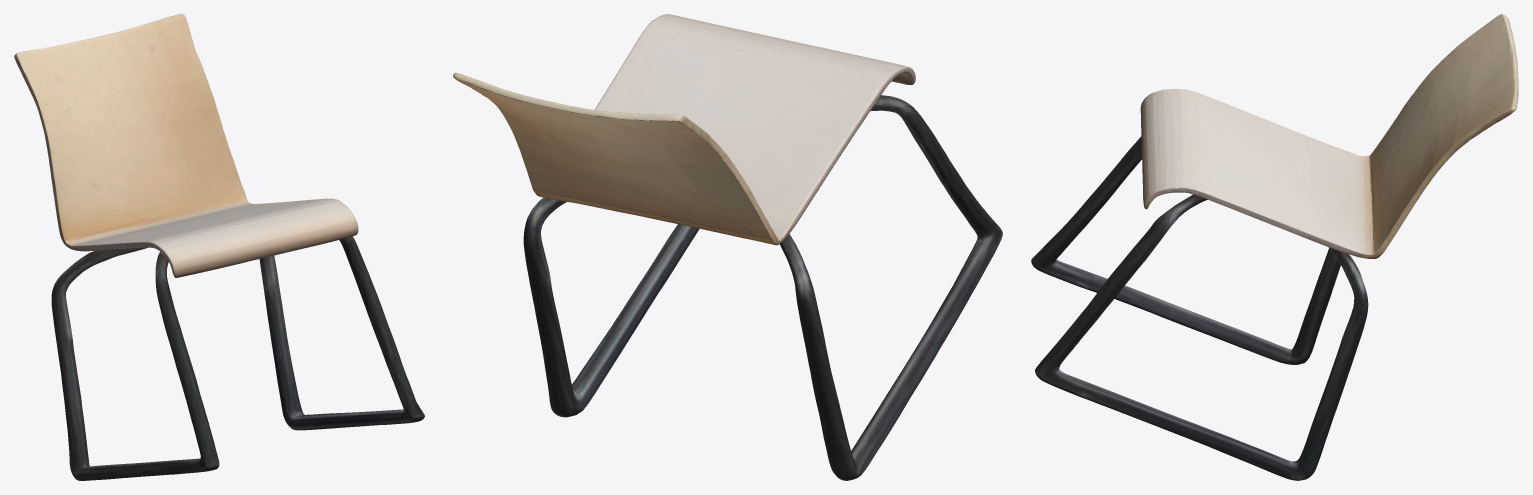
File: wooden_chair_in_the_front_left_000.glb
3 views of the same model, side by side, from view 1: azimuth 30°, elevation 25°; view 2: azimuth 150°, elevation 25°; view 3: azimuth 270°, elevation 25° (orthographic). The views are drawn at different scales.
Parts seen in each view (by area): view 1: wooden_chair_in_the_front_left_000.obj; view 2: wooden_chair_in_the_front_left_000.obj; view 3: wooden_chair_in_the_front_left_000.obj.
Part boxes in pixels (box(x1,y1,x2,y2)): wooden_chair_in_the_front_left_000.obj: box(14, 14, 424, 480); wooden_chair_in_the_front_left_000.obj: box(453, 14, 1002, 480); wooden_chair_in_the_front_left_000.obj: box(1031, 14, 1518, 480).
Bounding box in the file's own units: 0.3408 × 0.4864 × 0.581.
Materials: 1 (1 with a texture image).
